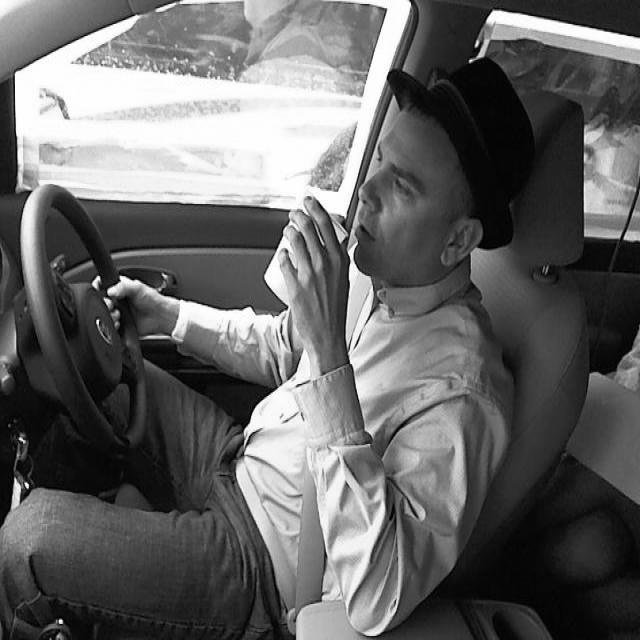drinking: (263, 190, 347, 310)
